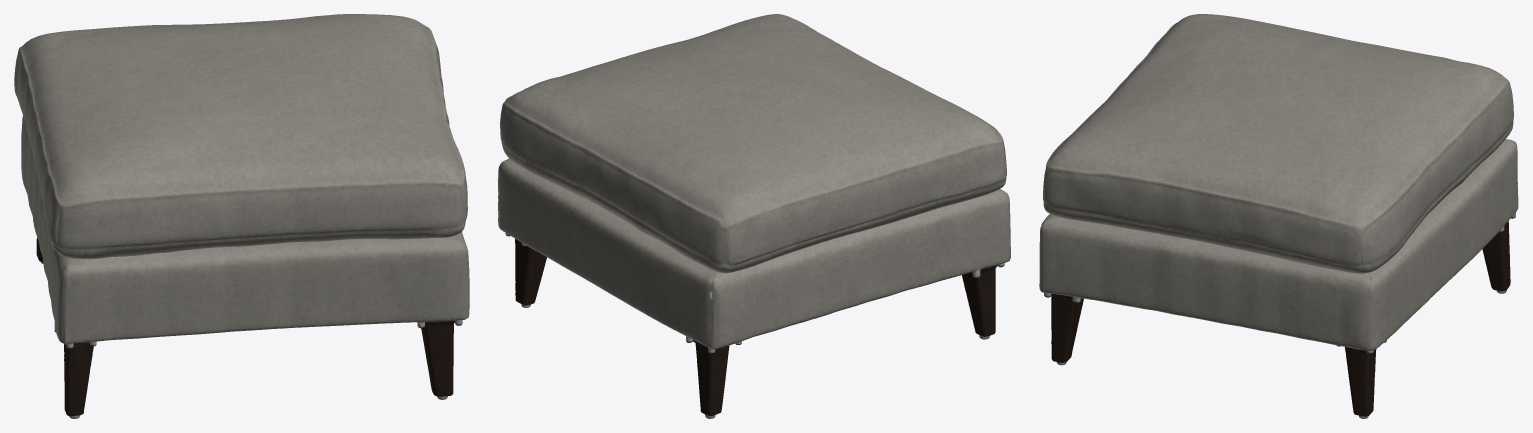
The model's file is B07124WMZZ.glb.
3 renders of one model, left to right at view 1: azimuth 30°, elevation 25°; view 2: azimuth 150°, elevation 25°; view 3: azimuth 270°, elevation 25°, orthographic. The views are drawn at different scales.
Parts seen in each view (by area): view 1: geometry_0; view 2: geometry_0; view 3: geometry_0.
Part boxes in pixels (x1,y1,x2,y2): geometry_0: (14, 14, 469, 418); geometry_0: (498, 14, 1010, 418); geometry_0: (1039, 14, 1518, 418).
Size of the model in its own units: 0.7831 by 0.412 by 0.7537.
1 material, 1 textured.
